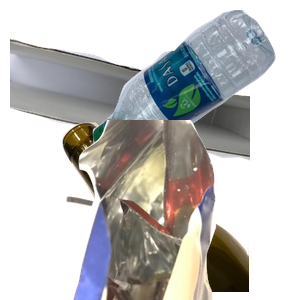cardboard: (10, 35, 250, 188)
glass: (60, 120, 300, 300)
plastic: (90, 10, 300, 156)
trash: (63, 120, 300, 300)
